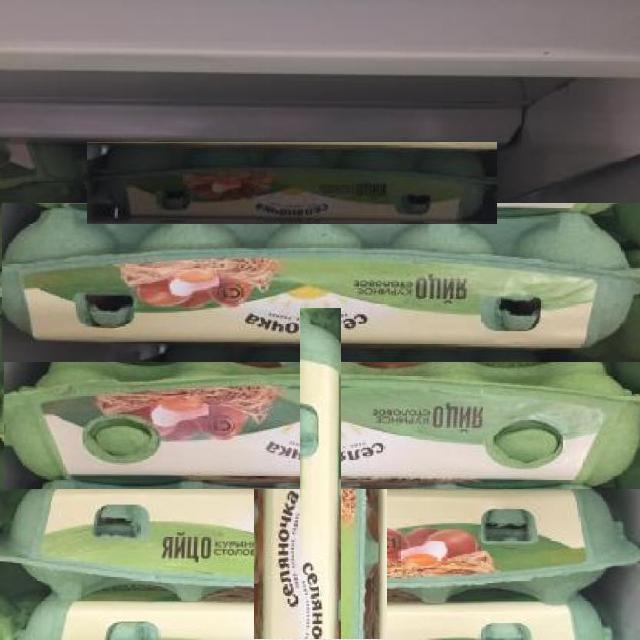Egg: (1, 202, 640, 362), (3, 347, 640, 489), (254, 225, 387, 640), (86, 141, 497, 224), (300, 309, 341, 640)
